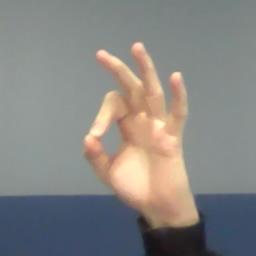O: (80, 39, 202, 202)
